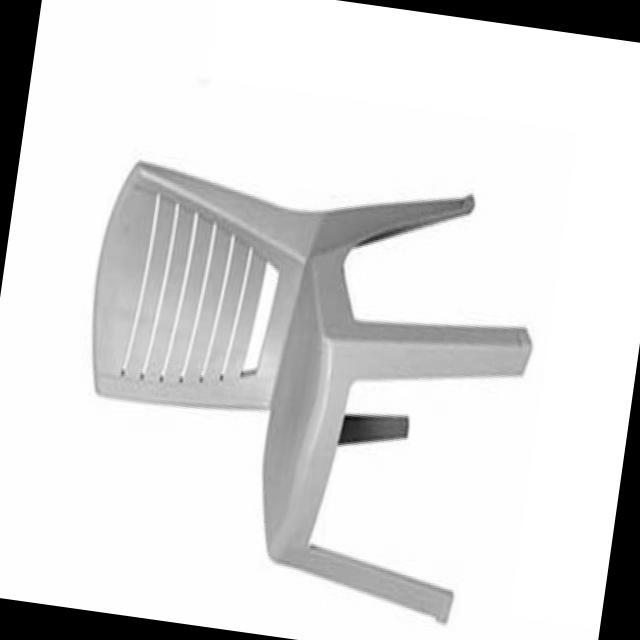chair: (49, 117, 563, 640)
